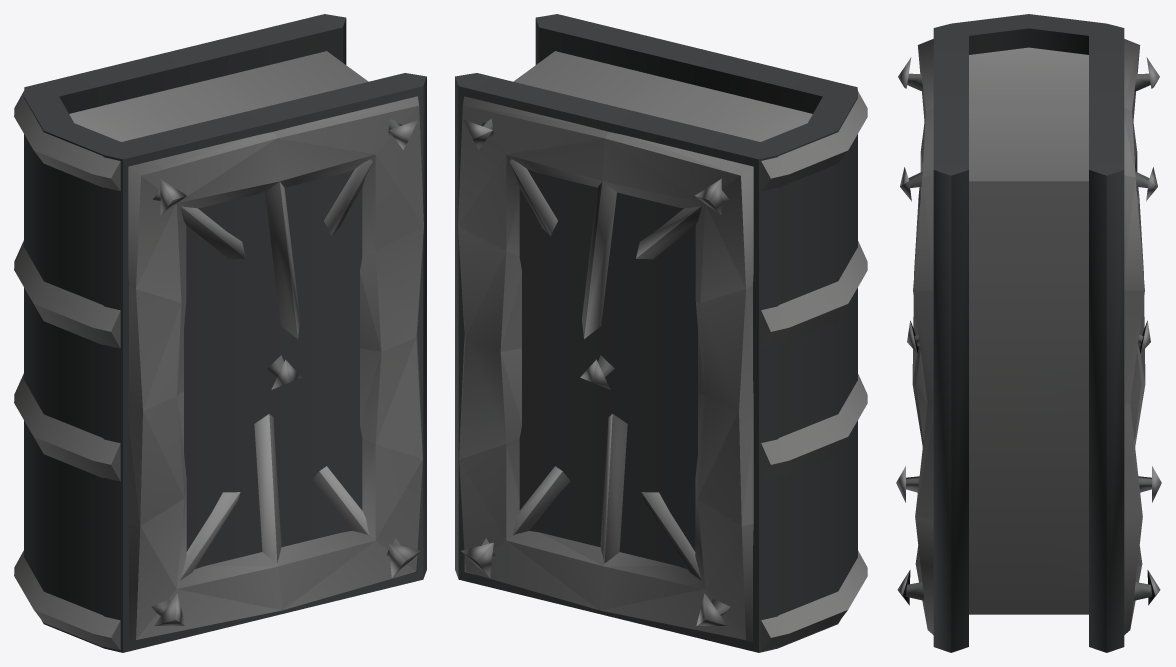
Rendered from SpellBook1h_13.fbx.
3 renders of one model, left to right at view 1: azimuth 30°, elevation 25°; view 2: azimuth 150°, elevation 25°; view 3: azimuth 270°, elevation 25°, orthographic. The views are drawn at different scales.
Parts seen in each view (by area): view 1: SpellBook1h_13; view 2: SpellBook1h_13; view 3: SpellBook1h_13.
Boxes of the visible parts, x1,y1,x2,y2 form: SpellBook1h_13: (14,14,426,652); SpellBook1h_13: (455,14,867,652); SpellBook1h_13: (896,14,1161,652).
Size of the model in its own units: 31.93 by 42.65 by 21.53.
